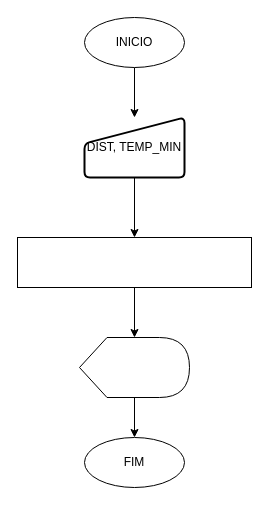
The diagram is 269 pixels wide and 505 high, and some of its shapes have lost their labels. Here are the shapes that lost their labels. From the top down, the box of each, then its label:
(16, 236, 252, 288): VEL<- (DIST*100) /(TEMP_MIN*60)
(78, 336, 190, 398): VEL
